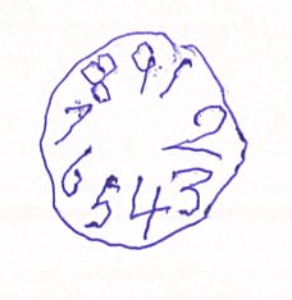1: (156, 59, 195, 99)
2: (159, 104, 229, 160)
3: (170, 166, 214, 219)
4: (129, 174, 172, 243)
5: (83, 174, 120, 230)
6: (59, 143, 93, 196)
7: (53, 101, 93, 146)
8: (81, 53, 120, 103)
9: (128, 40, 156, 97)
contour: (38, 29, 249, 251)
